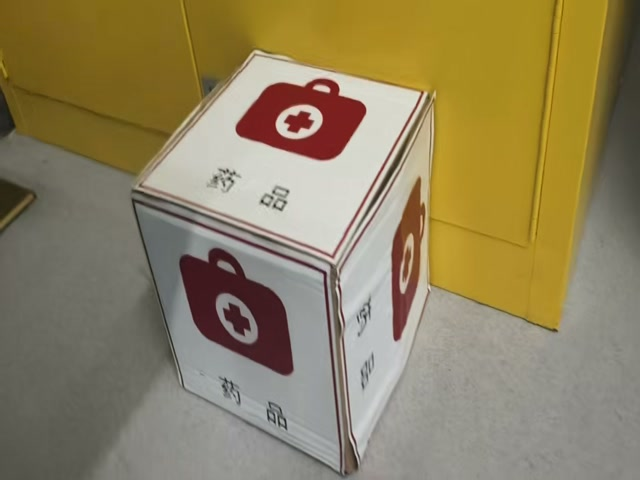Cube_medicine: (132, 52, 431, 262)
